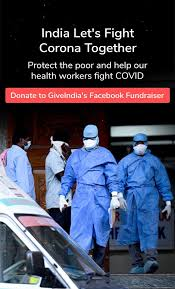mask: (8, 130, 34, 156), (47, 130, 69, 152), (131, 133, 148, 158), (83, 127, 97, 151)
